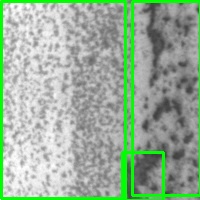patches: (122, 152, 163, 200)
pitted_surface: (1, 1, 125, 198), (132, 1, 200, 195)
